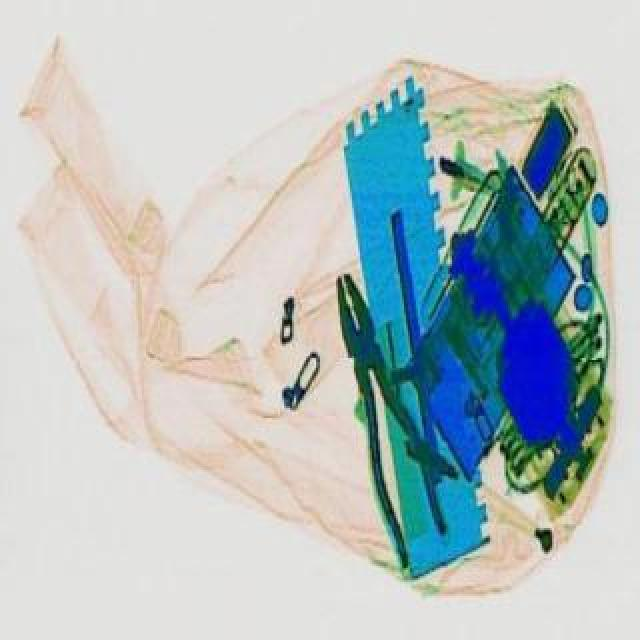wrench: (310, 264, 458, 564)
